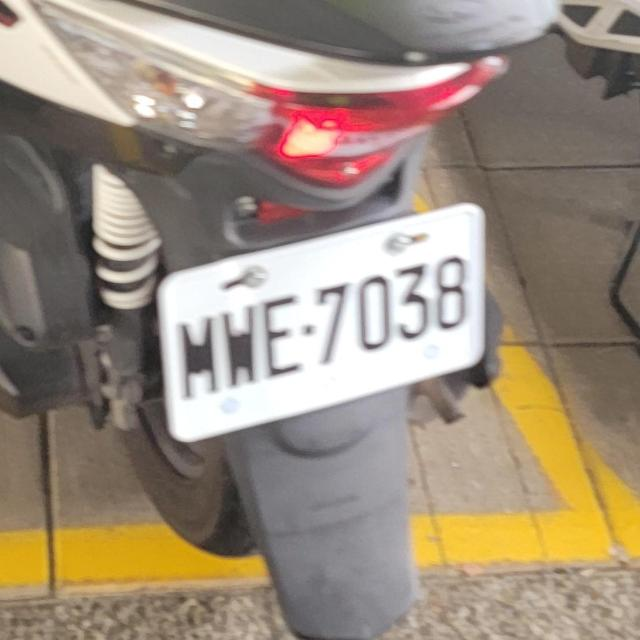W: (142, 196, 510, 452)
